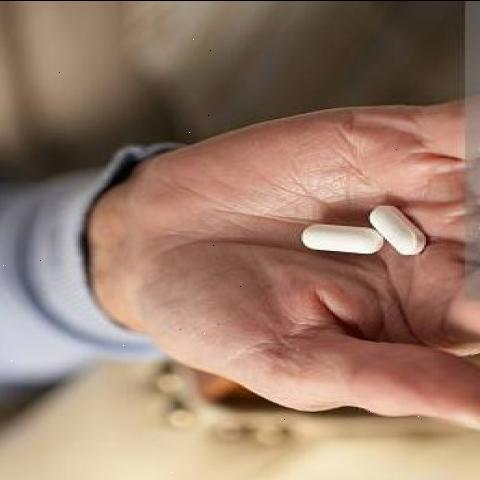Pill: (286, 208, 388, 258), (361, 188, 435, 255)
